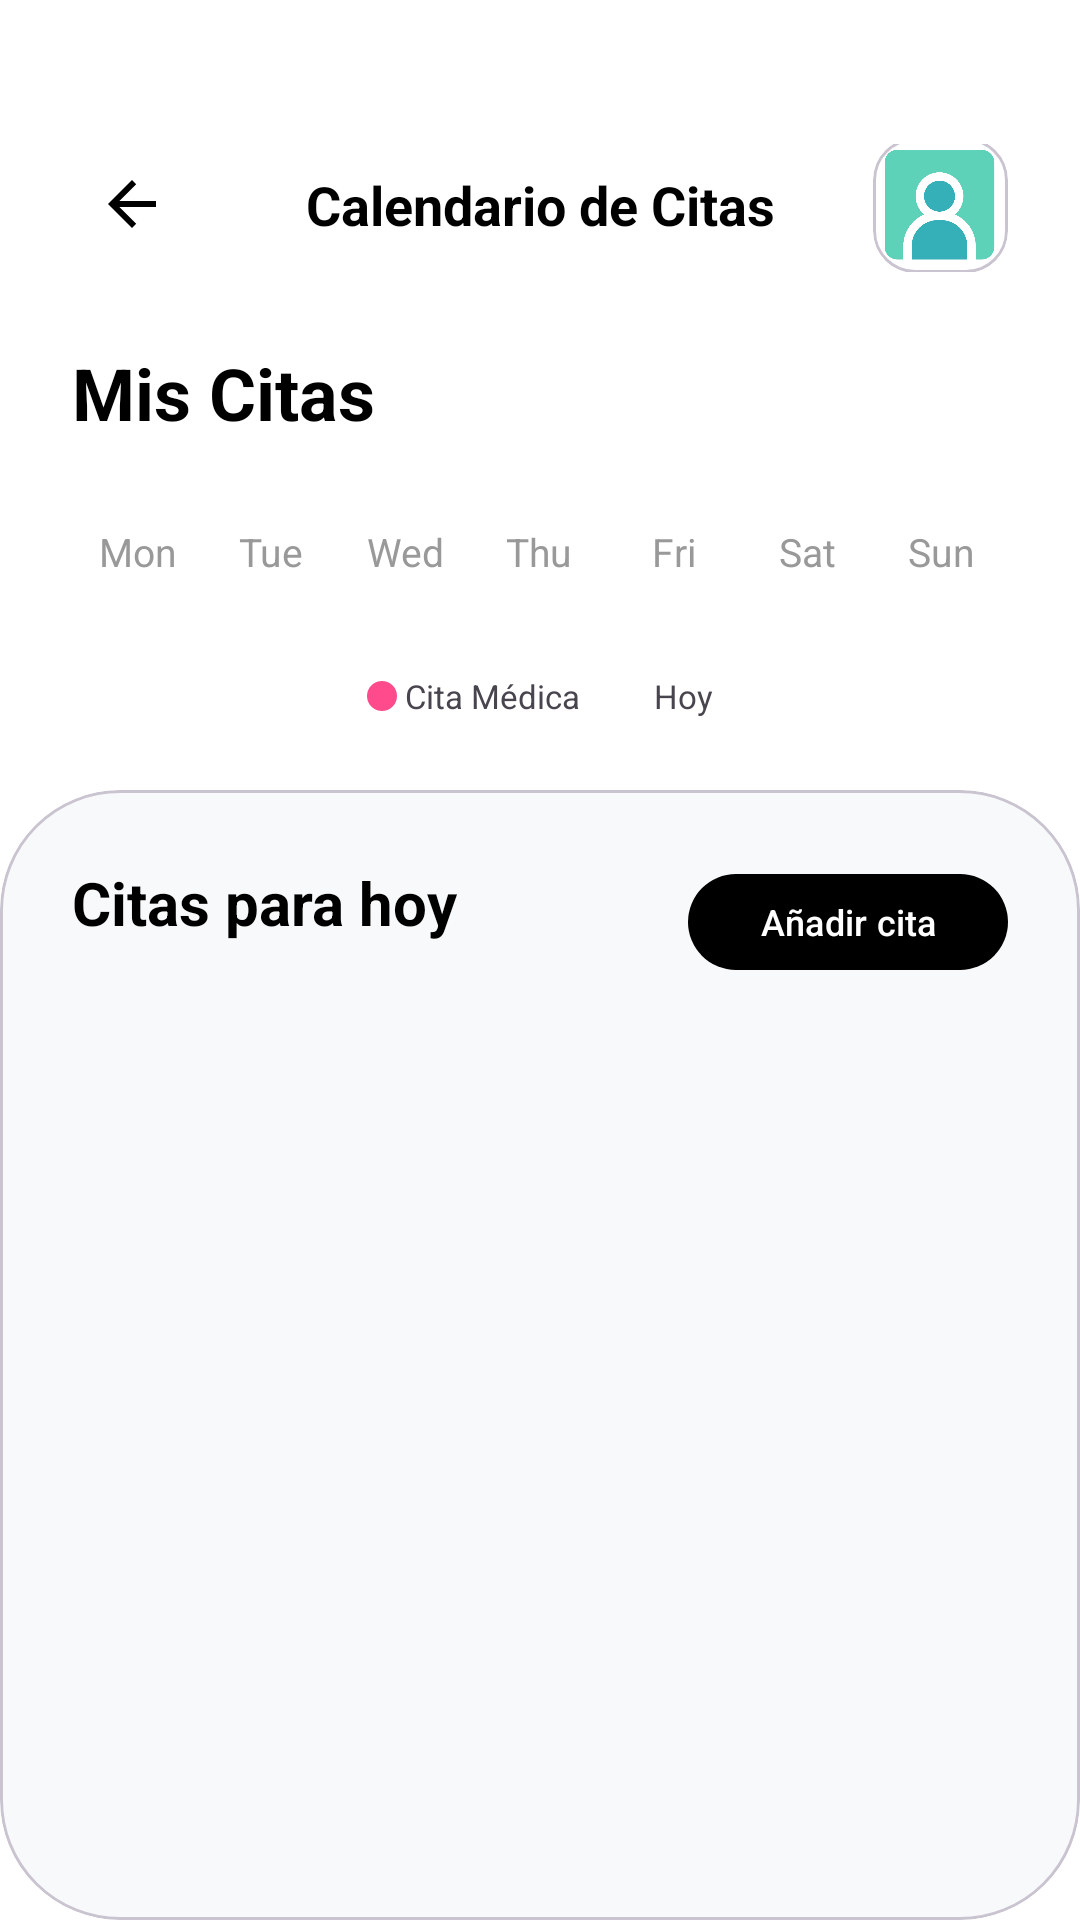

Screen size 1080px×1920px. Icon name, then its center in pixels as [x,y]:
ab back: [132,204]
